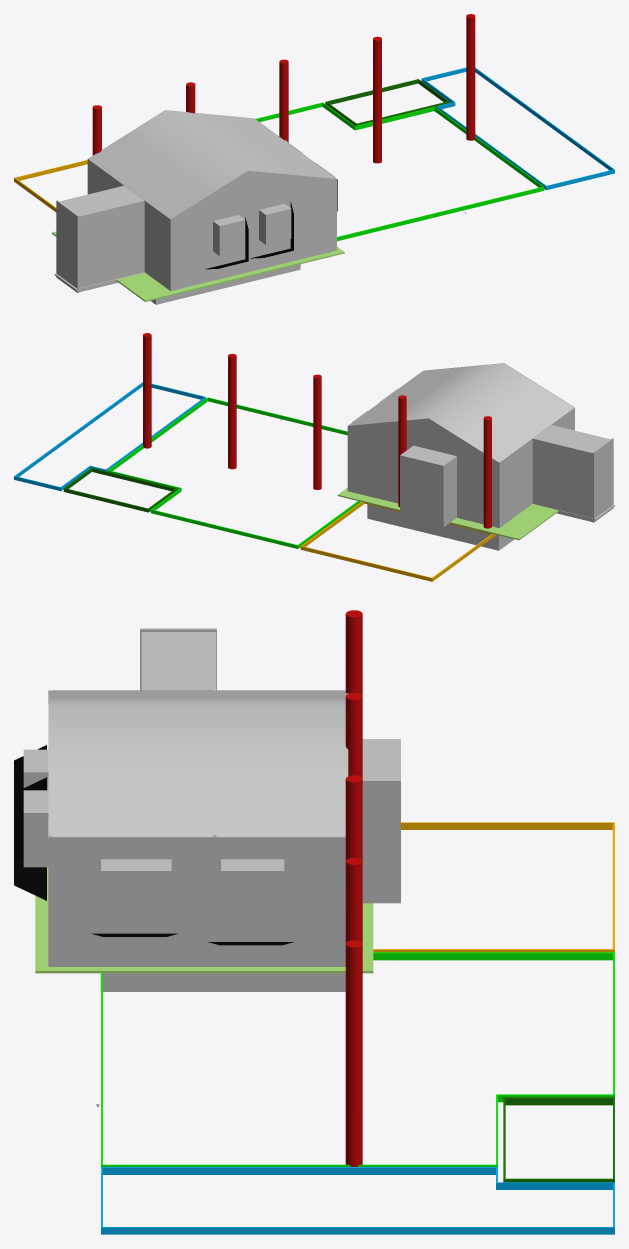
File: TentRemodel_v11.fbx
3 views of the same model, one above another, from view 1: azimuth 30°, elevation 25°; view 2: azimuth 150°, elevation 25°; view 3: azimuth 270°, elevation 25° (orthographic). The views are drawn at different scales.
Visible parts, largest first — view 1: WALLS_TENT, WALLS_TENT.001, SALA_05.001, FLOOR_1.002, WINDOW_CUTS, FLOOR_1.001, SALA_01; view 2: SALA_05.001, WALLS_TENT.001, WALLS_TENT, FLOOR_1.002, WINDOW_CUTS, FLOOR_1.001, SALA_01; view 3: WALLS_TENT.001, WALLS_TENT, SALA_05.001, WINDOW_CUTS, FLOOR_1.002, SALA_01, FLOOR_1.001, Cube.052.
Part boxes in pixels (x1,y1,x2,y2): WALLS_TENT: (87,110,336,290); WALLS_TENT.001: (89,110,334,218); SALA_05.001: (14,14,614,241); FLOOR_1.002: (54,185,144,292); WINDOW_CUTS: (213,140,335,255); FLOOR_1.001: (52,231,344,301); SALA_01: (151,264,300,304); SALA_05.001: (14,333,495,581); WALLS_TENT.001: (349,363,574,461); WALLS_TENT: (347,363,574,527); FLOOR_1.002: (532,425,614,522); WINDOW_CUTS: (352,388,534,527); FLOOR_1.001: (337,488,558,540); SALA_01: (367,504,514,550); WALLS_TENT.001: (49,690,347,836); WALLS_TENT: (48,690,348,966); SALA_05.001: (101,610,614,1234); WINDOW_CUTS: (23,739,400,925); FLOOR_1.002: (140,628,216,690); SALA_01: (100,973,345,991); FLOOR_1.001: (35,867,373,973); Cube.052: (14,777,46,900).
Size of the model in its own units: 1981 by 515 by 1078.
